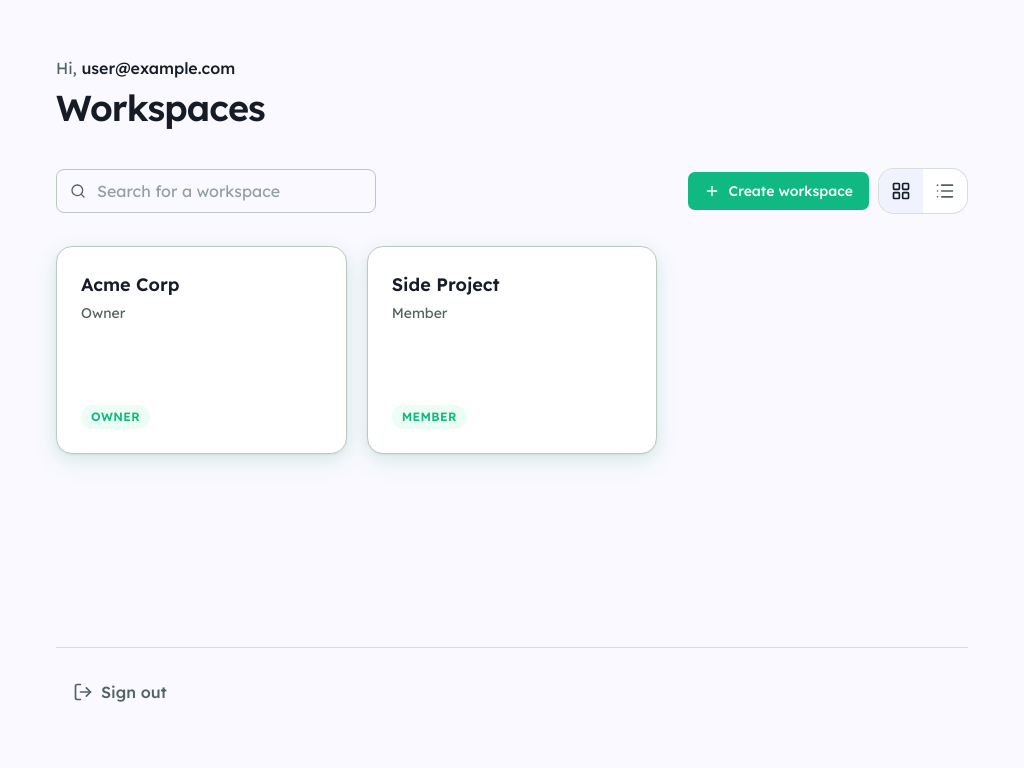
it: WorkspaceChooser page › keeps Create button disabled until name is entered
Expected: the text "Acme Corp" is shown, [81, 271, 180, 299]
Click the button "Create workspace": (779, 191) [688, 171, 870, 211]
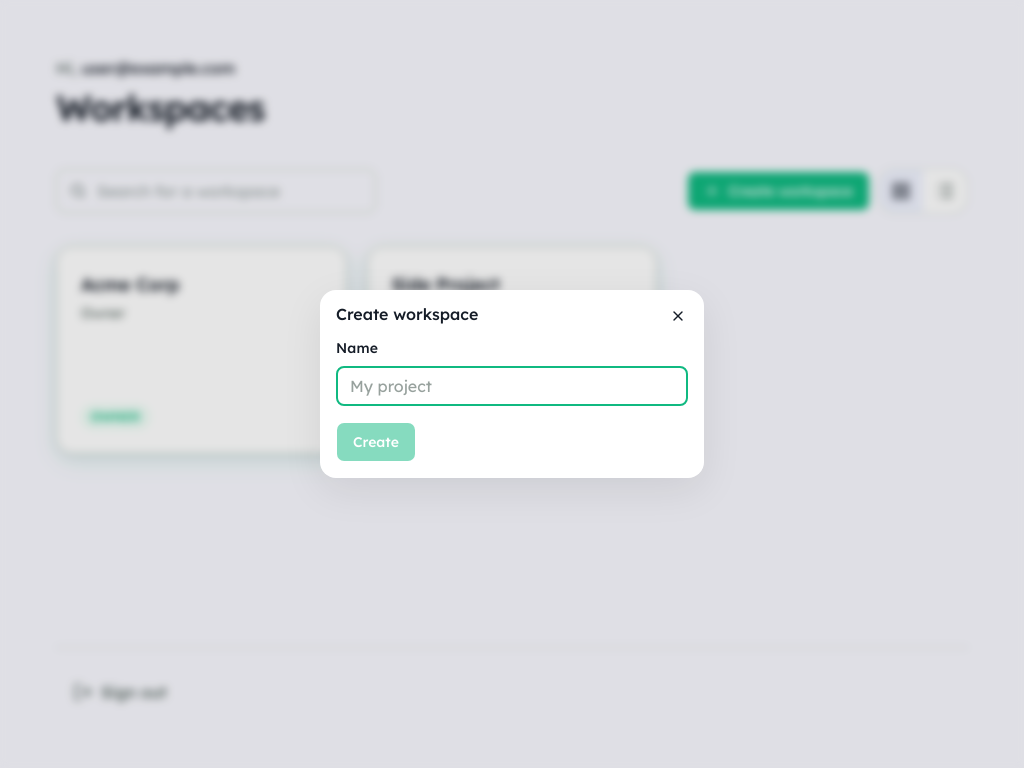
Expected: the button "Create" is disabled, [336, 422, 416, 462]
In the field labelled "Name": (512, 386) [336, 366, 688, 406], type "New Project"
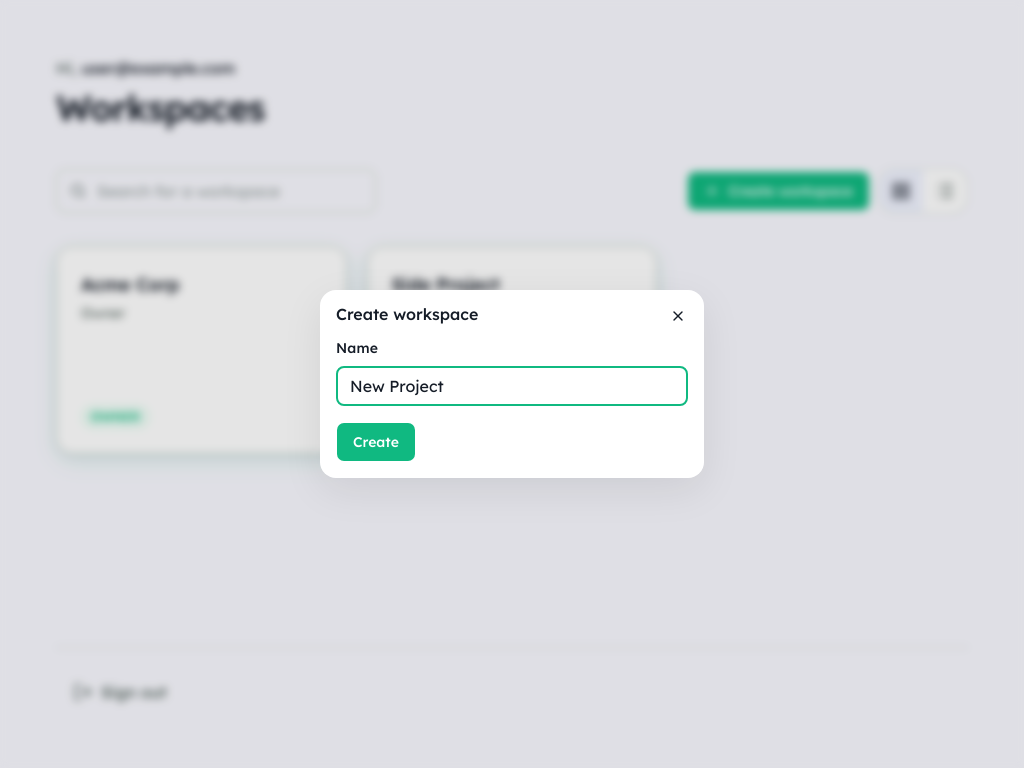
Expected: the button "Create" is enabled, [336, 422, 416, 462]
